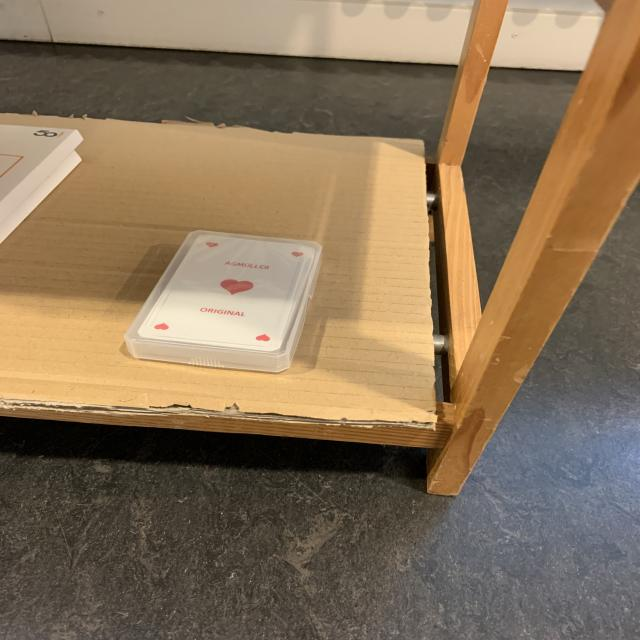Jasskarte: (125, 231, 322, 372)
